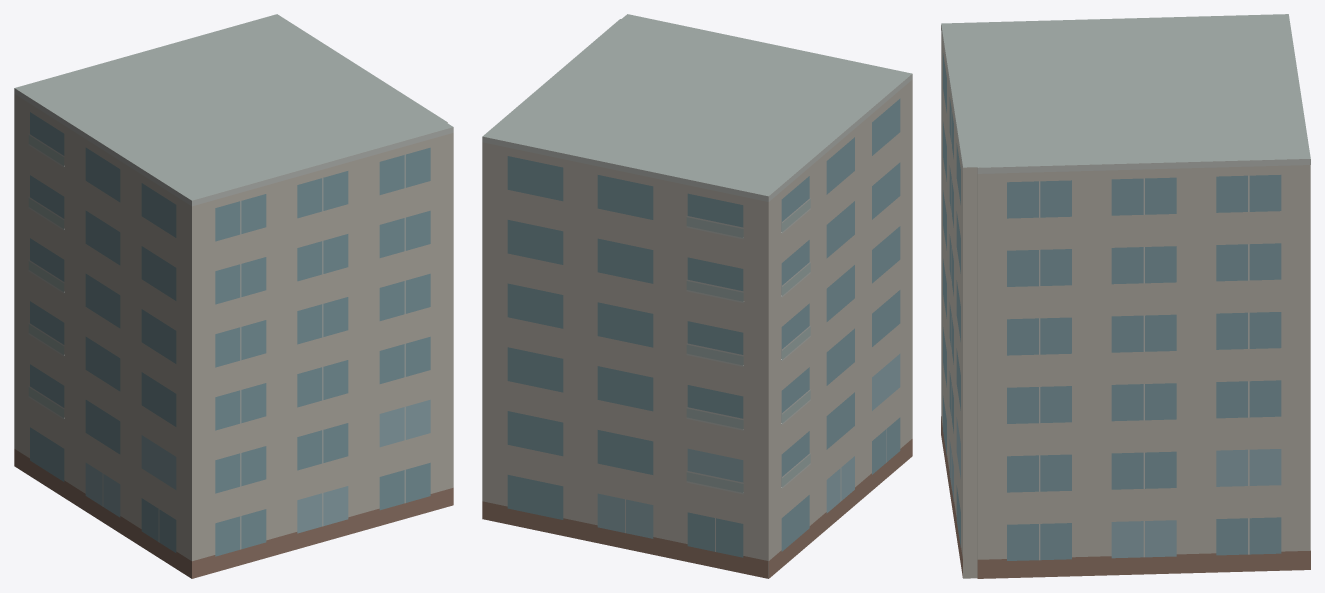
The model's file is survey-upis-33023994.glb.
The picture shows the model from 3 angles, left to right: view 1: azimuth 30°, elevation 25°; view 2: azimuth 150°, elevation 25°; view 3: azimuth 270°, elevation 25°; orthographic projection. The views are drawn at different scales.
Parts seen in each view (by area): view 1: survey-upis-33023994.tmp; view 2: survey-upis-33023994.tmp; view 3: survey-upis-33023994.tmp.
Part boxes in pixels (x1,y1,x2,y2): survey-upis-33023994.tmp: (14, 14, 453, 578); survey-upis-33023994.tmp: (482, 14, 912, 578); survey-upis-33023994.tmp: (941, 14, 1310, 578).
Bounding box in the file's own units: 13.13 × 16.35 × 13.34.
